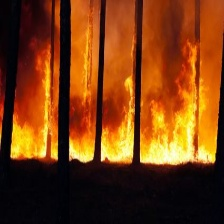fire: (1, 36, 222, 166)
